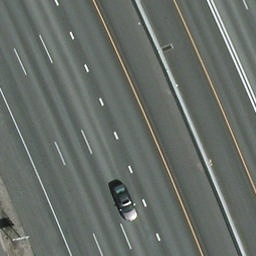car: (112, 181, 139, 223)
